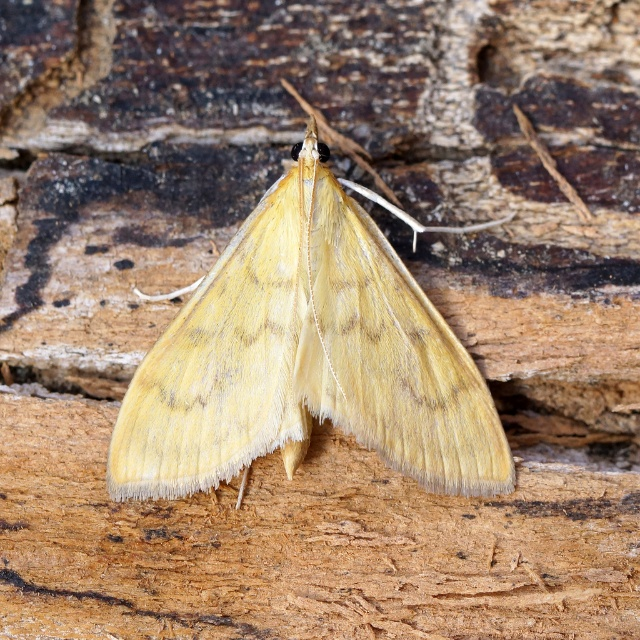Butterfly: (116, 75, 493, 527)
